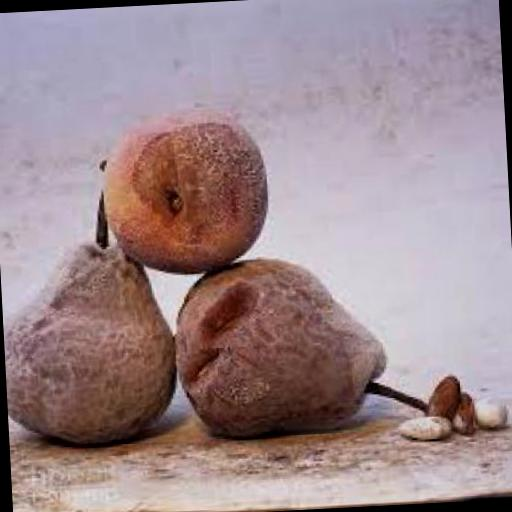biodegradable: (0, 152, 182, 450), (175, 246, 430, 443), (101, 98, 276, 276), (424, 372, 464, 426), (401, 414, 454, 444), (478, 386, 512, 428), (451, 390, 480, 436)
